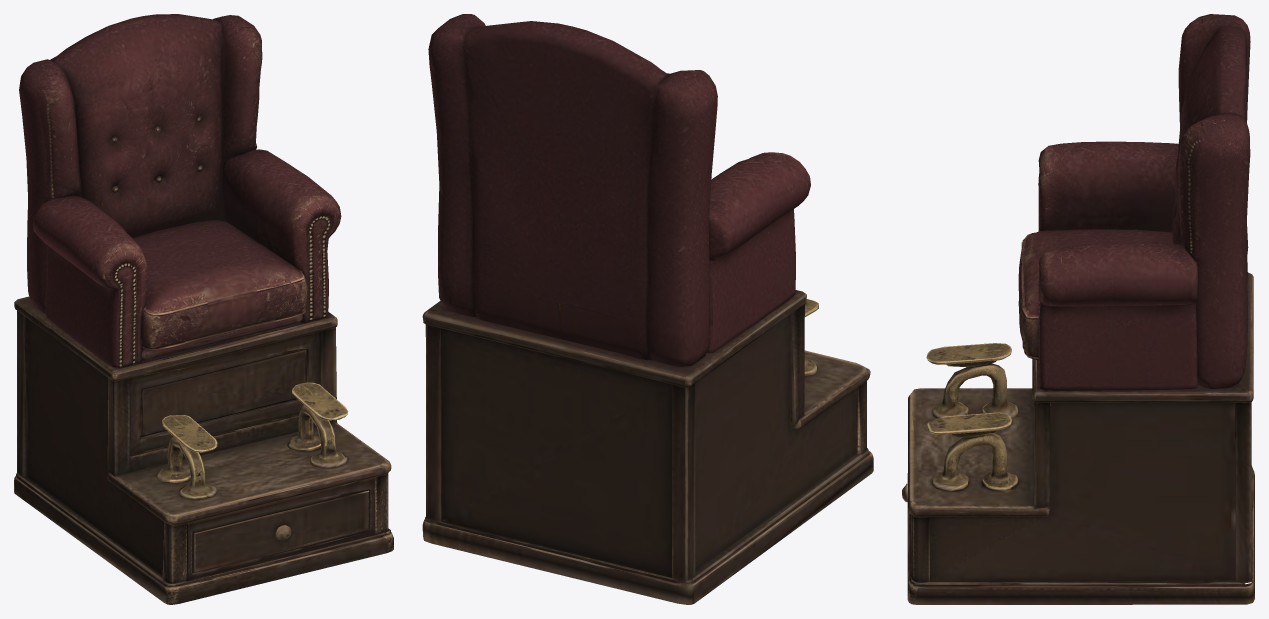
The model's file is p7-shoe-shine-chair-t25.glb.
3 views of the same model, side by side, from view 1: azimuth 30°, elevation 25°; view 2: azimuth 150°, elevation 25°; view 3: azimuth 270°, elevation 25° (orthographic). The views are drawn at different scales.
Parts seen in each view (by area): view 1: p7-shoe-shine-chair-t25; view 2: p7-shoe-shine-chair-t25; view 3: p7-shoe-shine-chair-t25.
Boxes of the visible parts, <box> form: p7-shoe-shine-chair-t25: <box>14,14,393,604</box>; p7-shoe-shine-chair-t25: <box>422,14,873,604</box>; p7-shoe-shine-chair-t25: <box>902,14,1254,604</box>.
Size of the model in its own units: 0.8 by 1.4 by 0.9.
Materials: 1 (1 with a texture image).
